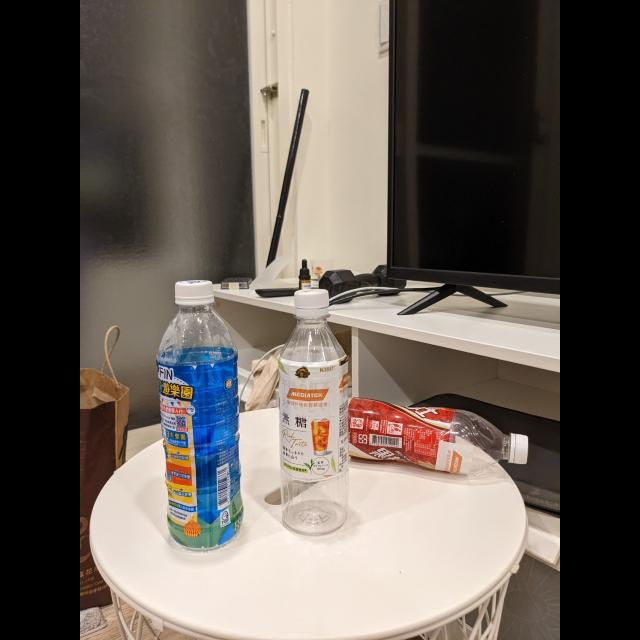trash: (152, 276, 248, 556), (274, 286, 352, 540), (337, 396, 531, 476)
